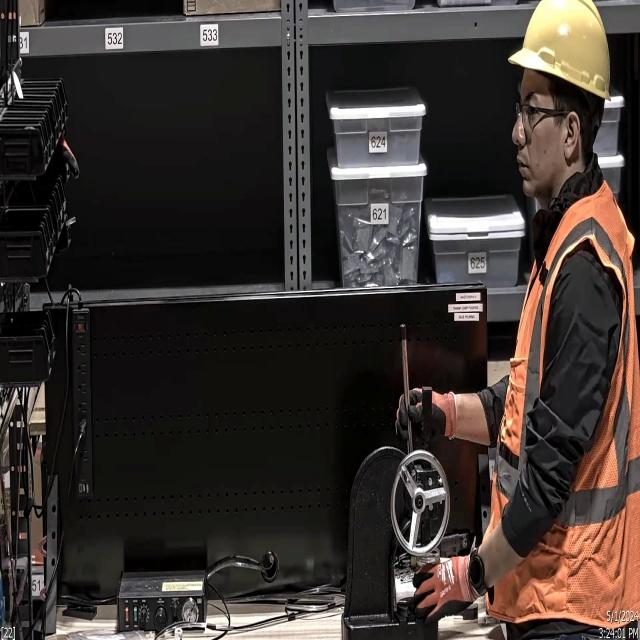construction-gloves: (414, 553, 472, 628), (394, 389, 462, 444)
